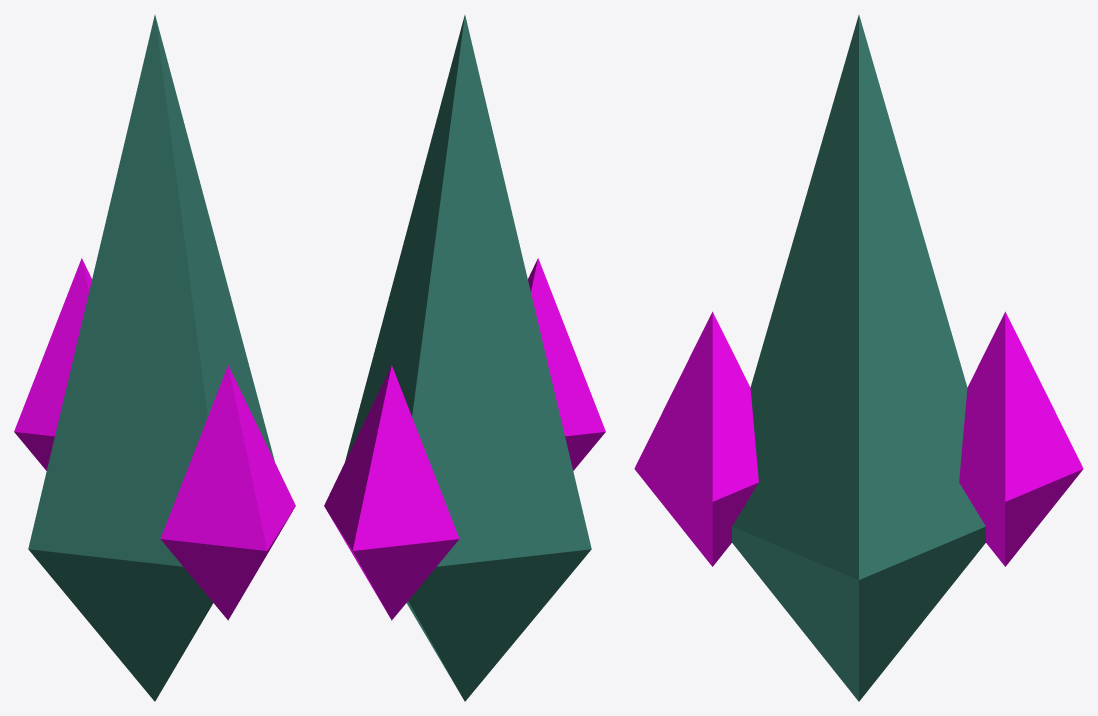
File: AM_Crystal_01.fbx
3 renders of one model, left to right at view 1: azimuth 30°, elevation 25°; view 2: azimuth 150°, elevation 25°; view 3: azimuth 270°, elevation 25°, orthographic.
Parts seen in each view (by area): view 1: AM_Crystal_01; view 2: AM_Crystal_01; view 3: AM_Crystal_01.
Part boxes in pixels (left/top/right/bottom): AM_Crystal_01: left=14, top=15, right=295, bottom=701; AM_Crystal_01: left=324, top=15, right=605, bottom=701; AM_Crystal_01: left=634, top=15, right=1083, bottom=701.
Bounding box in the file's own units: 3.18 × 4.88 × 8.25.
